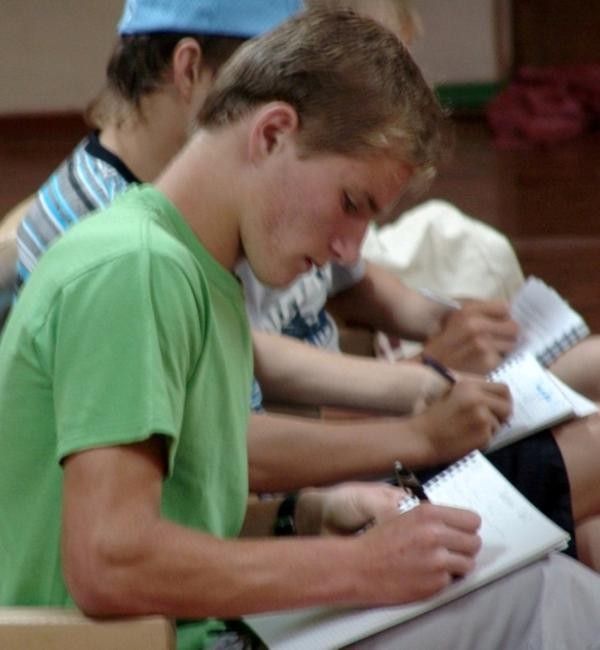person: (5, 11, 482, 649)
